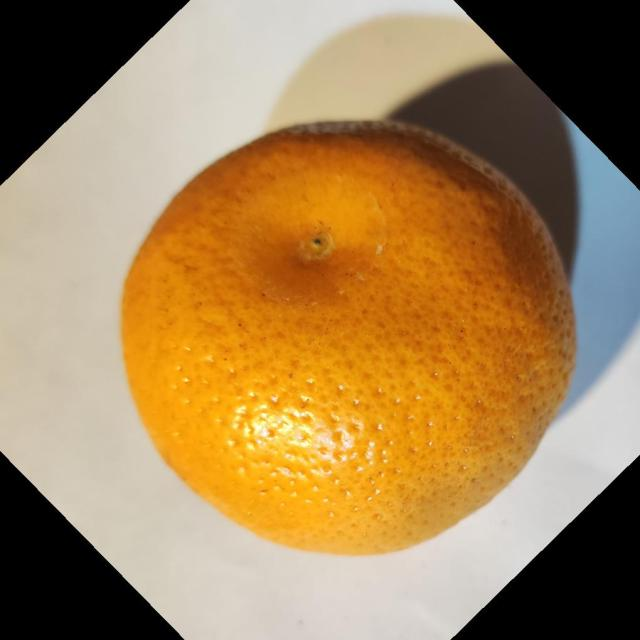fresh orange: (119, 116, 577, 556)
